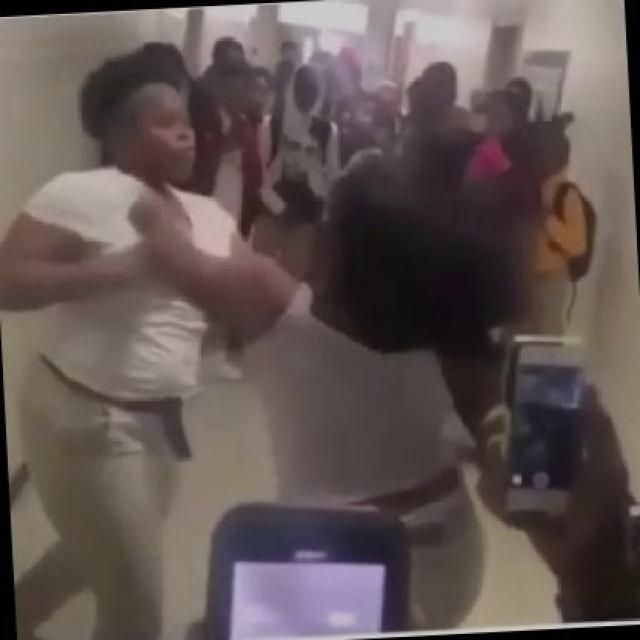fight: (0, 7, 623, 638)
